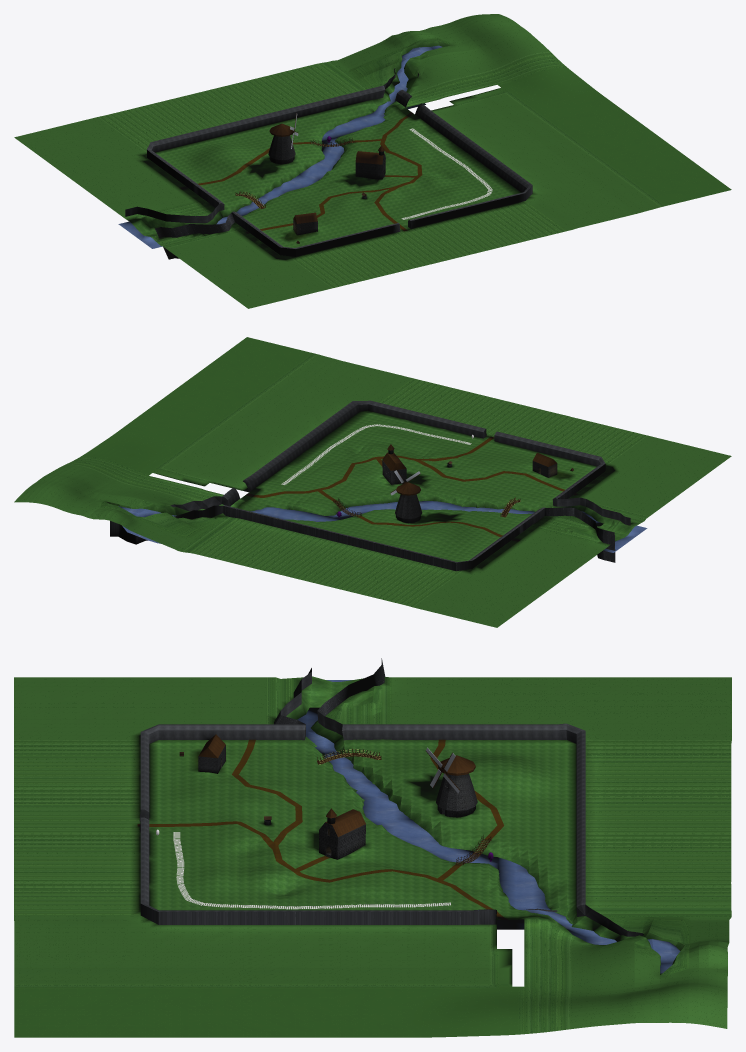
The model's file is village.glb.
The picture shows the model from 3 angles, top to bottom: view 1: azimuth 30°, elevation 25°; view 2: azimuth 150°, elevation 25°; view 3: azimuth 270°, elevation 25°; orthographic projection. The views are drawn at different scales.
Visible parts, largest first — view 1: Village terrain, Walls, Water plane, Village paths, Windmill Roof, Cathedral, Train Track Template, House; view 2: Village terrain, Walls, Water plane, Village paths, Windmill Roof, Cathedral, Train Track Template, House; view 3: Village terrain, Walls, Water plane, Village paths, Cathedral, Windmill Roof, Train Track Template, House.
Part boxes in pixels (x1,y1,x2,y2): Village terrain: (14, 14, 731, 308); Walls: (125, 68, 532, 259); Water plane: (118, 45, 442, 248); Village paths: (180, 112, 422, 233); Windmill Roof: (268, 123, 295, 164); Cathedral: (355, 145, 385, 179); Train Track Template: (401, 128, 492, 219); House: (293, 212, 317, 235); Village terrain: (14, 337, 731, 627); Walls: (110, 400, 630, 571); Water plane: (118, 501, 647, 552); Village paths: (245, 436, 577, 541); Windmill Roof: (395, 482, 422, 523); Cathedral: (382, 444, 406, 484); Train Track Template: (281, 424, 471, 484); House: (532, 452, 557, 477); Village terrain: (14, 676, 731, 1037); Walls: (139, 658, 644, 936); Water plane: (297, 680, 680, 973); Village paths: (137, 739, 508, 919); Cathedral: (319, 808, 365, 859); Windmill Roof: (436, 755, 477, 817); Train Track Template: (173, 832, 450, 909); House: (198, 734, 225, 773).
Bounding box in the file's own units: 249 × 32.09 × 207.
Materials: 5 (4 with a texture image).
